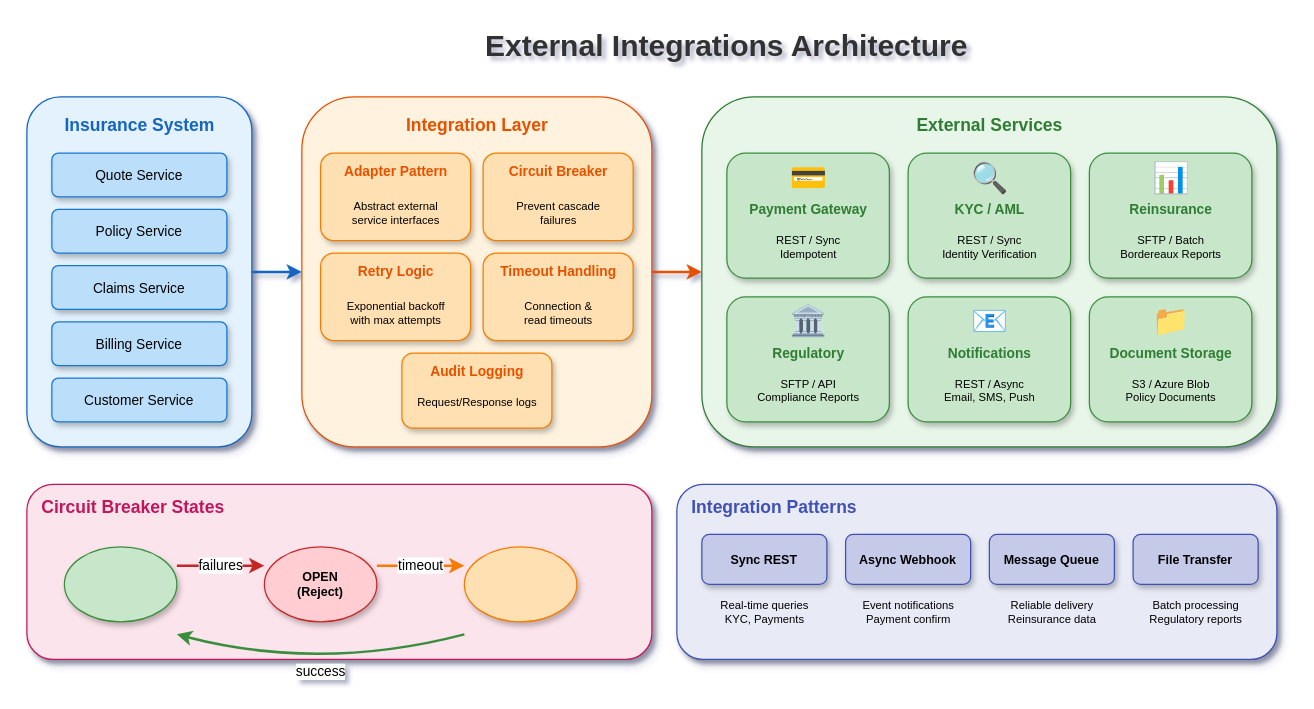
Some shapes in this 1314 by 709 pixel diagram are drawn without their labels. The centre of each missing label's shape, as x and y in pixels:
"CLOSED (Normal)" belongs at (x=121, y=586).
"HALF-OPEN (Test)" belongs at (x=521, y=586).
